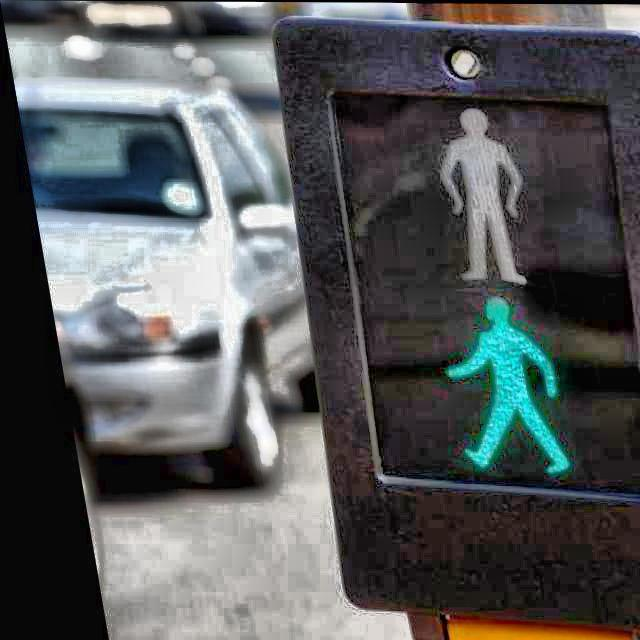semaforo pedestre: (215, 38, 640, 616)
